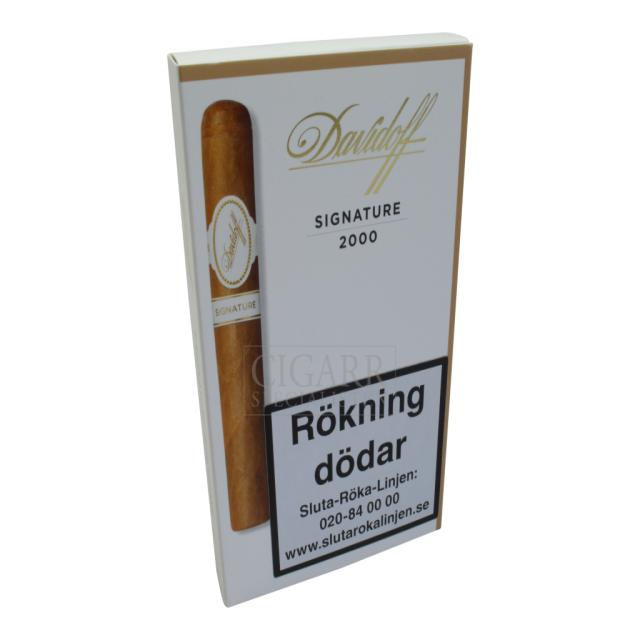Davidoff: (286, 92, 438, 196), (222, 210, 246, 273)
